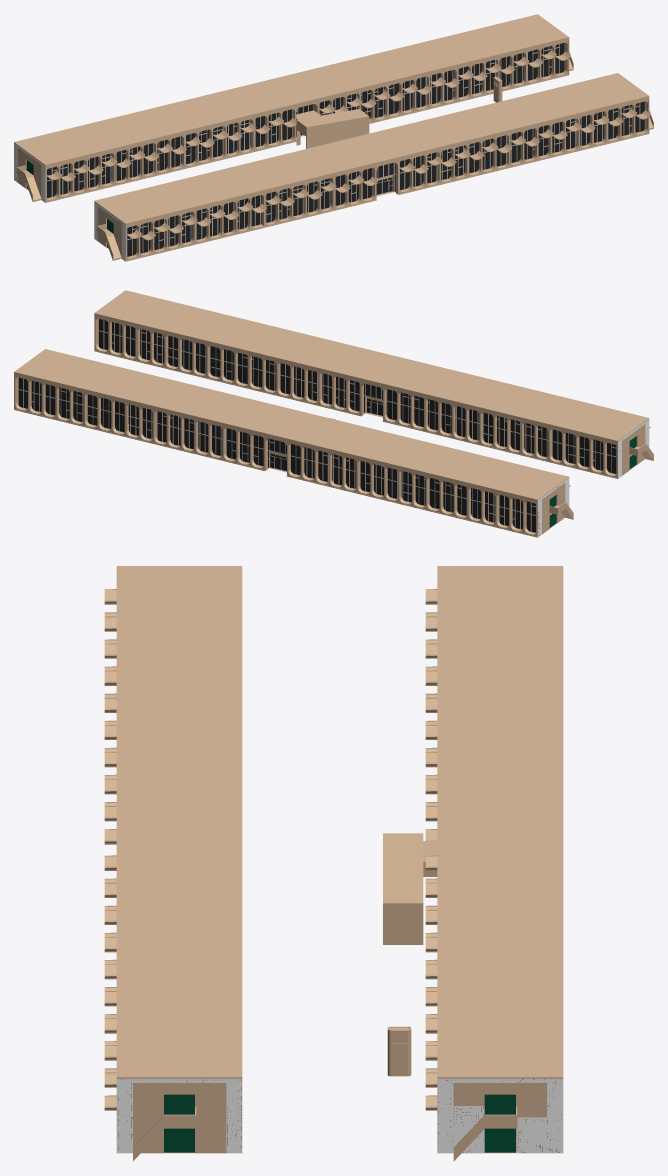
The model's file is salles TD.gltf.
3 renders of one model, top to bottom at view 1: azimuth 30°, elevation 25°; view 2: azimuth 150°, elevation 25°; view 3: azimuth 270°, elevation 25°, orthographic. The views are drawn at different scales.
Visible parts, largest first — view 1: 100-200, 300-400; view 2: 300-400, 100-200; view 3: 100-200, 300-400.
Part boxes in pixels (x1,y1,x2,y2): 100-200: (14, 14, 573, 202); 300-400: (94, 73, 653, 261); 300-400: (94, 290, 653, 478); 100-200: (14, 349, 573, 537); 100-200: (383, 566, 563, 1161); 300-400: (104, 566, 242, 1161).
Bounding box in the file's own units: 270 × 18.11 × 98.94.
Materials: 1 (1 with a texture image).
